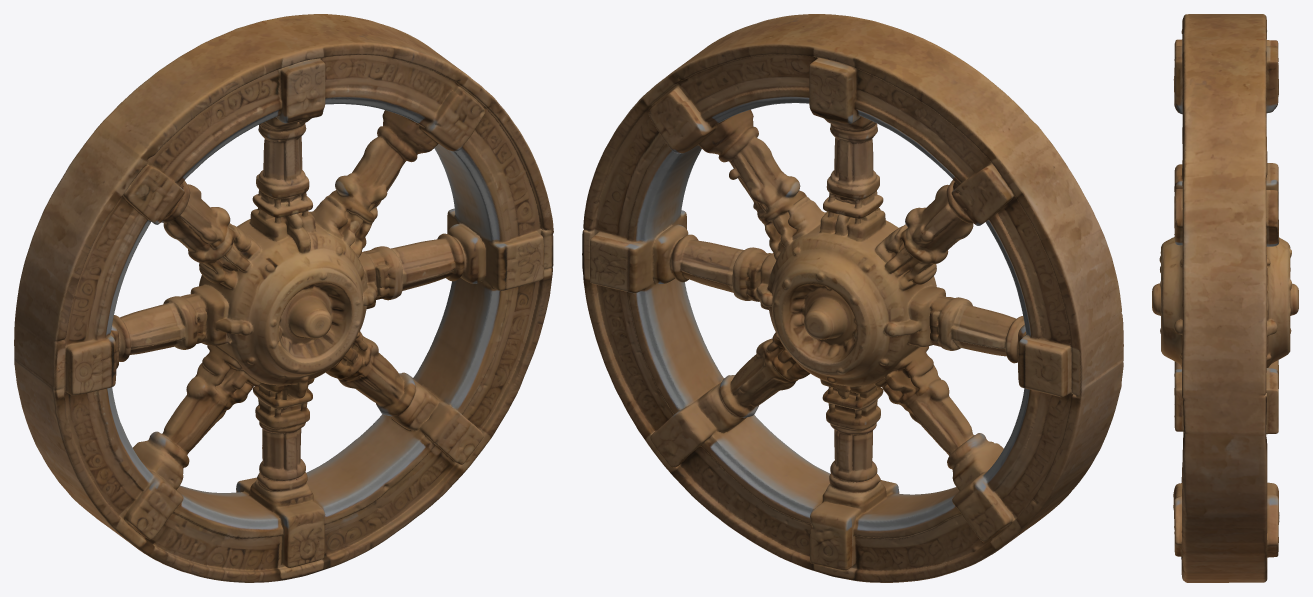
Rendered from Konark-Wheel.glb.
3 views of the same model, side by side, from view 1: azimuth 30°, elevation 25°; view 2: azimuth 150°, elevation 25°; view 3: azimuth 270°, elevation 25° (orthographic).
Visible parts, largest first — view 1: tripo_node_ef390852-ed6a-4f86-b807-1bf85d0fb53f; view 2: tripo_node_ef390852-ed6a-4f86-b807-1bf85d0fb53f; view 3: tripo_node_ef390852-ed6a-4f86-b807-1bf85d0fb53f.
Boxes of the visible parts, bbox=[...] form: tripo_node_ef390852-ed6a-4f86-b807-1bf85d0fb53f: bbox=[14, 14, 553, 582]; tripo_node_ef390852-ed6a-4f86-b807-1bf85d0fb53f: bbox=[582, 14, 1123, 582]; tripo_node_ef390852-ed6a-4f86-b807-1bf85d0fb53f: bbox=[1152, 14, 1298, 582].
Bounding box in the file's own units: 0.9962 × 1 × 0.2572.
Materials: 1 (1 with a texture image).
